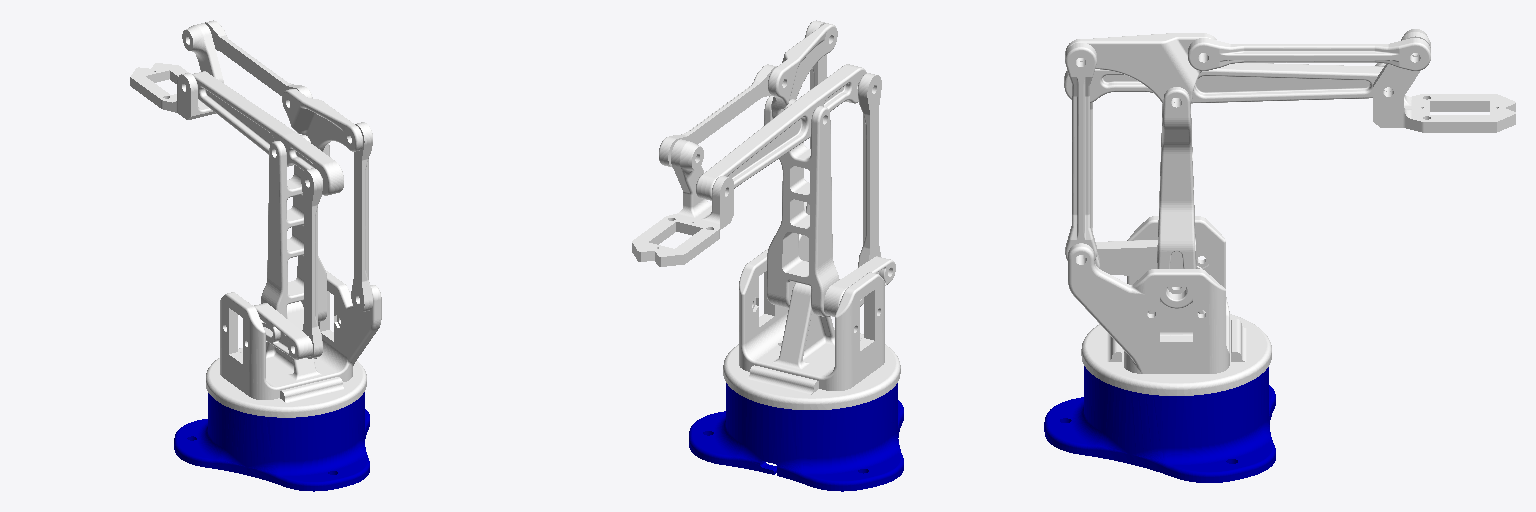
robot.urdf — test_robot:
<?xml version="1.0"?>
<robot name="test_robot">

  <material name="blue">
      <color rgba="0 0 0.8 .5"/>
  </material>
  <material name="black">
      <color rgba="0 0 0 1"/>
  </material>
  <material name="white">
      <color rgba="1 1 1 1"/>
  </material>
  
  <link name="base_link">
    <visual>
      <geometry>
        <mesh filename="package://my_robot/meshes/base_link.stl"
              scale=".001 .001 .001"/>
      </geometry> 
      <origin xyz="0 0 0"/>
      <material name="blue"/>
    </visual>
  </link>
  
  <link name="round_plate" >
    <visual>
      <geometry>
        <mesh filename="package://my_robot/meshes/round_plate.stl"
              scale=".001 .001 .001"/>
      </geometry>
      <origin xyz="0 0 0"/>
      <material name="white"/>
    </visual>
  </link>
  
  <joint name="yaw_servo" type="continuous">
    <parent link="base_link"/>
    <child link="round_plate"/>
    <origin xyz="0 0 .310"/>
    <axis xyz="0 0 1"/>
  </joint>

  <link name="main_mount" >
    <visual>
      <geometry>
        <mesh filename="package://my_robot/meshes/main_mount.stl"
              scale=".001 .001 .001"/>
      </geometry>
      <origin xyz="0 0 0"/>
      <material name="white"/>
    </visual>
  </link>

  <joint name="plate_mount" type="fixed">
    <parent link="round_plate"/>
    <child link="main_mount"/>
    <origin rpy="0 0 0" xyz="-0.140 0 0.045"/>
  </joint>
    
  <link name="forward_drive_arm" >
    <visual>
      <geometry>
        <mesh filename="package://my_robot/meshes/forward_drive_arm.stl"
              scale=".001 .001 .001"/>
      </geometry>
      <origin xyz="-0.162 0 0" rpy="3.1415 -1.5708 1.5708"/>
      <material name="white"/>
    </visual>
  </link>

  <joint name="forward_servo" type="continuous">
    <parent link="main_mount"/>
    <child link="forward_drive_arm"/>
    <origin xyz="0.210 0 .304" rpy="0 0 0"/>
    <axis xyz="1 0 0"/>
  </joint> 

  <link name="vertical_drive_arm" >
    <visual>
      <geometry>
        <mesh filename="package://my_robot/meshes/vertical_drive_arm.stl"
              scale=".001 .001 .001"/>
      </geometry>
      <origin xyz="0 0 0" rpy="-1.5708 1.5708 1.5708"/>
      <material name="white"/>
    </visual>
  </link>

  <joint name="vertical_servo" type="continuous">
    <parent link="main_mount"/>
    <child link="vertical_drive_arm"/>
    <origin xyz=".048 0 .304" rpy="1.5708 0 0"/>
    <axis xyz="1 0 0"/>
  </joint> 

  <link name="vertical_drive_link" >
    <visual>
      <geometry>
        <mesh filename="package://my_robot/meshes/link.stl"
              scale=".001 .001 .001"/>
      </geometry>
      <origin xyz="0 0 0" rpy="1.5708 0 1.5708"/>
      <material name="white"/>
    </visual>
  </link>

  <link name="virtual_vertDrive_link">
    <visual>
      <geometry>
        <cylinder length=".01" radius="0.001"/>
      </geometry>
      <origin xyz="0 0 -.005" rpy="0 0 0"/>
    </visual>
  </link>

  <joint name="vertDrive_link_a" type="continuous">
    <parent link="vertical_drive_arm"/>
    <child link="virtual_vertDrive_link"/>
    <origin xyz="0 0 .350"/>
    <axis xyz="1 0 0"/>
    <mimic joint="forward_servo" multiplier="1" offset="0"/>
  </joint> 
  <joint name="vertDrive_link_b" type="continuous">
    <parent link="virtual_vertDrive_link"/>
    <child link="vertical_drive_link"/>
    <origin xyz="0 0 0"/>
    <axis xyz="1 0 0"/>
    <mimic joint="vertical_servo" multiplier="-1" offset="0"/>
  </joint> 

  <link name="horizontal_arm" >
    <visual>
      <geometry>
        <mesh filename="package://my_robot/meshes/horizontal_arm.stl"
              scale=".001 .001 .001"/>
      </geometry>
      <origin xyz="0 -0.350 0" rpy="1.5708 0 1.5708"/>
      <material name="white"/>
    </visual>
  </link>

  <link name="virtual_fwdDrive_horizArm">
    <visual>
      <geometry>
        <cylinder length=".01" radius="0.001"/>
      </geometry>
      <origin xyz="0 0 -.005" rpy="0 0 0"/>
    </visual>
  </link>
  
  <joint name="fwd_drv_horiz_arm_a" type="continuous">
    <parent link="forward_drive_arm"/>
    <child link="virtual_fwdDrive_horizArm"/>
    <origin xyz="-0.092 0 0.800"/>
    <axis xyz="1 0 0"/>
    <mimic joint="forward_servo" multiplier="-1" offset="0"/>
  </joint> 
  <joint name="fwd_drv_horiz_arm_b" type="continuous">
    <parent link="virtual_fwdDrive_horizArm"/>
    <child link="horizontal_arm"/>
    <origin xyz="0 0 0"/>
    <axis xyz="1 0 0"/>
    <mimic joint="vertical_servo" multiplier="1" offset="0"/>
  </joint> 

  <link name="static_link_1" >
    <visual>
      <geometry>
        <mesh filename="package://my_robot/meshes/link.stl"
              scale=".001 .001 .001"/>
      </geometry>
      <origin xyz="0 0 0" rpy="1.5708 0 1.5708"/>
      <material name="white"/>
    </visual>
  </link>

  <joint name="static_link_joint" type="continuous">
    <parent link="main_mount"/>
    <child link="static_link_1"/>
    <origin xyz="0.300 -0.361 0.4763" rpy="1.5708 0 0"/>
    <axis xyz="1 0 0"/>
    <mimic joint="forward_servo" multiplier="1" offset="0"/>
  </joint> 
  
  <link name="triangle_link" >
    <visual>
      <geometry>
        <mesh filename="package://my_robot/meshes/triangular_link.stl"
              scale=".001 .001 .001"/>
      </geometry>
      <origin xyz="0 0 0" rpy="0 -1.5708 0"/>
      <material name="white"/>
    </visual>
  </link>

  <joint name="fwdArm_trianlge_joint" type="continuous">
    <parent link="forward_drive_arm"/>
    <child link="triangle_link"/>
    <origin xyz="0.088 0 0.800" rpy="1.5708 0 0"/>
    <axis xyz="1 0 0"/>
    <mimic joint="forward_servo" multiplier="-1" offset="0"/>
  </joint> 

  <link name="forearm_link" >
    <visual>
      <geometry>
        <mesh filename="package://my_robot/meshes/link.stl"
              scale=".001 .001 .001"/>
      </geometry>
      <origin xyz="0 0 0" rpy="1.5708 0 1.5708"/>
      <material name="white"/>
    </visual>
  </link>

  <joint name="forearm_link_joint_a" type="continuous">
    <parent link="triangle_link"/>
    <child link="forearm_link"/>
    <origin xyz="-0.040 0.1723 -0.101553" rpy="-1.5708 0 0"/>
    <axis xyz="1 0 0"/>
    <mimic joint="vertical_servo" multiplier="1" offset="0"/>
  </joint> 

  <link name="claw_support" >
    <visual>
      <geometry>
        <mesh filename="package://my_robot/meshes/claw_support.stl"
              scale=".001 .001 .001"/>
      </geometry>
      <origin xyz="0.128 0 0" rpy="0 0 1.5708"/>
      <material name="white"/>
    </visual>
  </link>

  <joint name="claw_joint" type="continuous">
    <parent link="horizontal_arm"/>
    <child link="claw_support"/>
    <origin xyz="0 0.800 0" rpy="0 0 0"/>
    <axis xyz="1 0 0"/>
    <mimic joint="vertical_servo" multiplier="-1" offset="0"/>
  </joint> 




</robot>

--- Render facts (derived) ---
3 views of the same robot in one strip: view 1: azimuth 30°, elevation 25°; view 2: azimuth 150°, elevation 25°; view 3: azimuth 270°, elevation 25° (orthographic).
Robot: test_robot — 13 links, 12 joints (11 continuous, 1 fixed); root link base_link; default pose: every joint at zero.
Visible links, largest first — view 1: base_link, main_mount, forward_drive_arm, horizontal_arm, round_plate, claw_support, static_link_1, triangle_link, vertical_drive_link, vertical_drive_arm, forearm_link; view 2: base_link, main_mount, forward_drive_arm, claw_support, horizontal_arm, round_plate, vertical_drive_link, triangle_link, forearm_link, vertical_drive_arm, static_link_1; view 3: base_link, main_mount, horizontal_arm, forward_drive_arm, round_plate, claw_support, forearm_link, triangle_link, static_link_1, vertical_drive_arm.
Link boxes in pixels (bbox=[...]): base_link: bbox=[174, 392, 369, 491]; main_mount: bbox=[220, 271, 381, 399]; forward_drive_arm: bbox=[261, 135, 329, 321]; horizontal_arm: bbox=[192, 71, 343, 195]; round_plate: bbox=[206, 348, 366, 417]; claw_support: bbox=[130, 23, 223, 119]; static_link_1: bbox=[351, 122, 372, 312]; triangle_link: bbox=[282, 89, 362, 151]; vertical_drive_link: bbox=[301, 168, 322, 358]; vertical_drive_arm: bbox=[254, 303, 312, 359]; forearm_link: bbox=[205, 20, 312, 97]; base_link: bbox=[689, 383, 903, 491]; main_mount: bbox=[739, 202, 884, 390]; forward_drive_arm: bbox=[764, 96, 839, 316]; claw_support: bbox=[632, 139, 733, 266]; horizontal_arm: bbox=[696, 64, 866, 200]; round_plate: bbox=[723, 328, 900, 409]; vertical_drive_link: bbox=[858, 73, 881, 267]; triangle_link: bbox=[768, 23, 837, 118]; forearm_link: bbox=[659, 64, 776, 167]; vertical_drive_arm: bbox=[824, 256, 895, 316]; static_link_1: bbox=[805, 20, 826, 214]; base_link: bbox=[1044, 366, 1275, 482]; main_mount: bbox=[1068, 216, 1229, 373]; horizontal_arm: bbox=[1064, 63, 1392, 103]; forward_drive_arm: bbox=[1157, 87, 1196, 308]; round_plate: bbox=[1081, 314, 1271, 395]; claw_support: bbox=[1373, 29, 1515, 132]; forearm_link: bbox=[1188, 38, 1430, 70]; triangle_link: bbox=[1065, 33, 1216, 103]; static_link_1: bbox=[1065, 43, 1096, 260]; vertical_drive_arm: bbox=[1096, 240, 1157, 275].
Bounding box of the posed robot: 0.9467 × 1.78 × 1.69 m (x, y, z).
11 mesh visuals loaded from 9 distinct referenced files (9 binary STL).